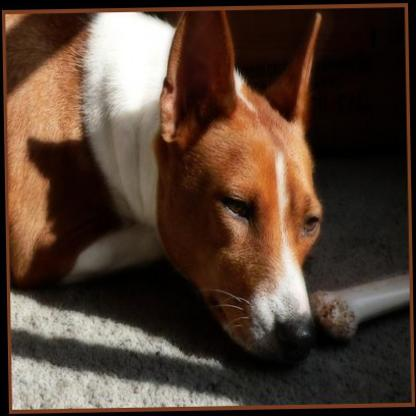basenji: (3, 4, 326, 374)
